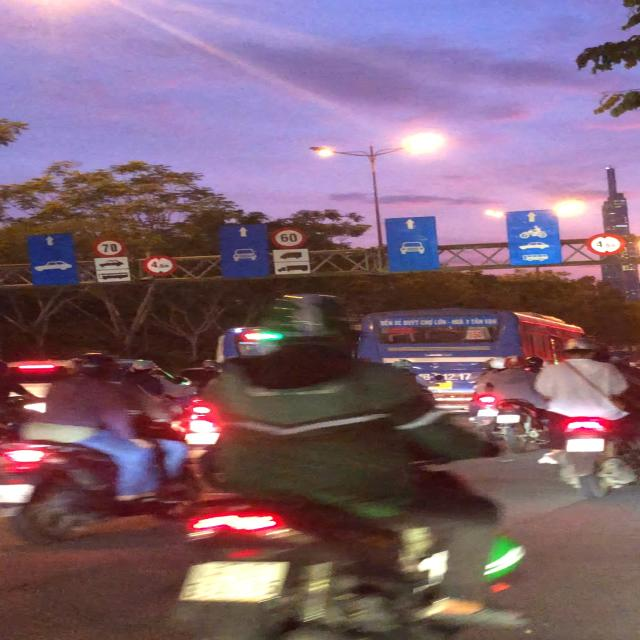Bien bao han che chieu cao: (585, 230, 628, 258), (140, 254, 182, 277)
Bien bao toc do toi da cho phep: (266, 227, 313, 250), (88, 236, 127, 256)
